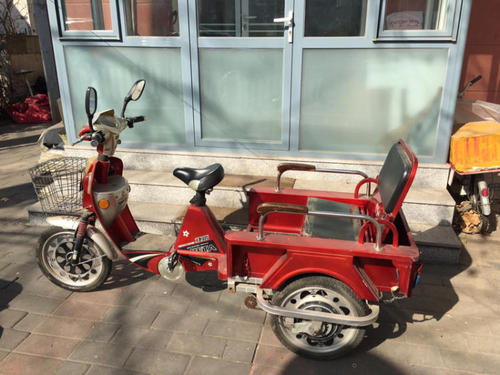tricycle: (28, 96, 430, 362)
